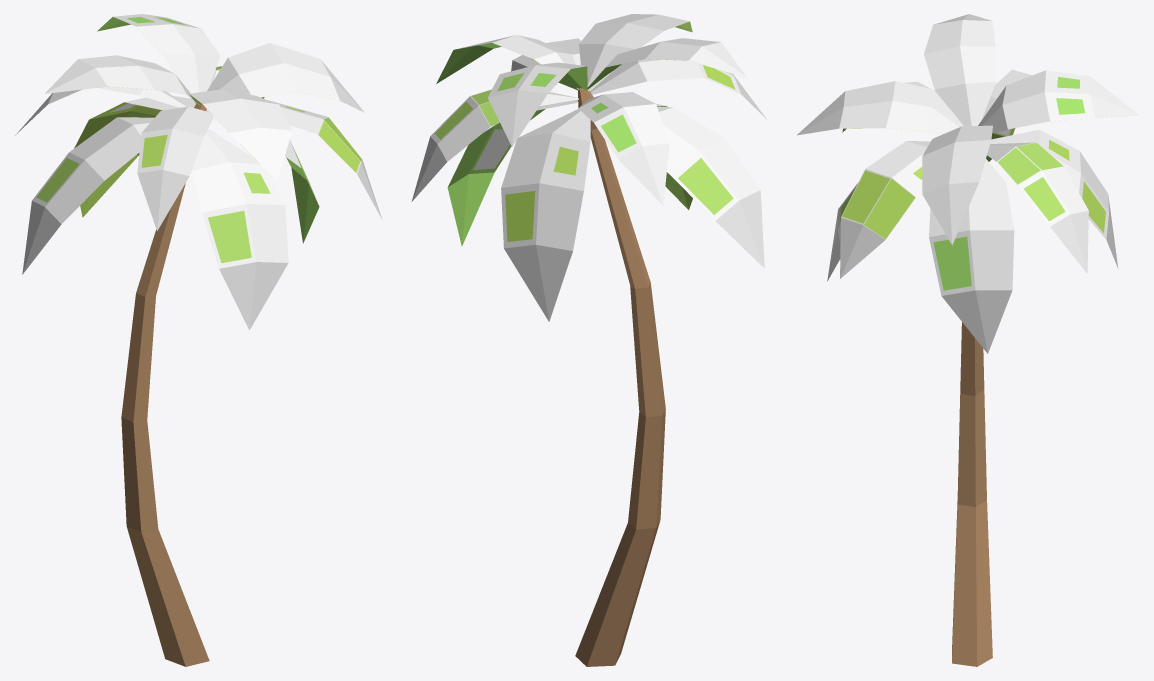
The model's file is Palm_Tree_l_Snow_BT_03.fbx.
The picture shows the model from 3 angles, left to right: view 1: azimuth 30°, elevation 25°; view 2: azimuth 150°, elevation 25°; view 3: azimuth 270°, elevation 25°; orthographic projection. The views are drawn at different scales.
Visible parts, largest first — view 1: Palm_Tree_l_Snow_BT_03; view 2: Palm_Tree_l_Snow_BT_03; view 3: Palm_Tree_l_Snow_BT_03.
Boxes of the visible parts, x1,y1,x2,y2 form: Palm_Tree_l_Snow_BT_03: (15,14,382,666); Palm_Tree_l_Snow_BT_03: (411,14,766,666); Palm_Tree_l_Snow_BT_03: (797,14,1139,666).
Bounding box in the file's own units: 442 × 784 × 412.
